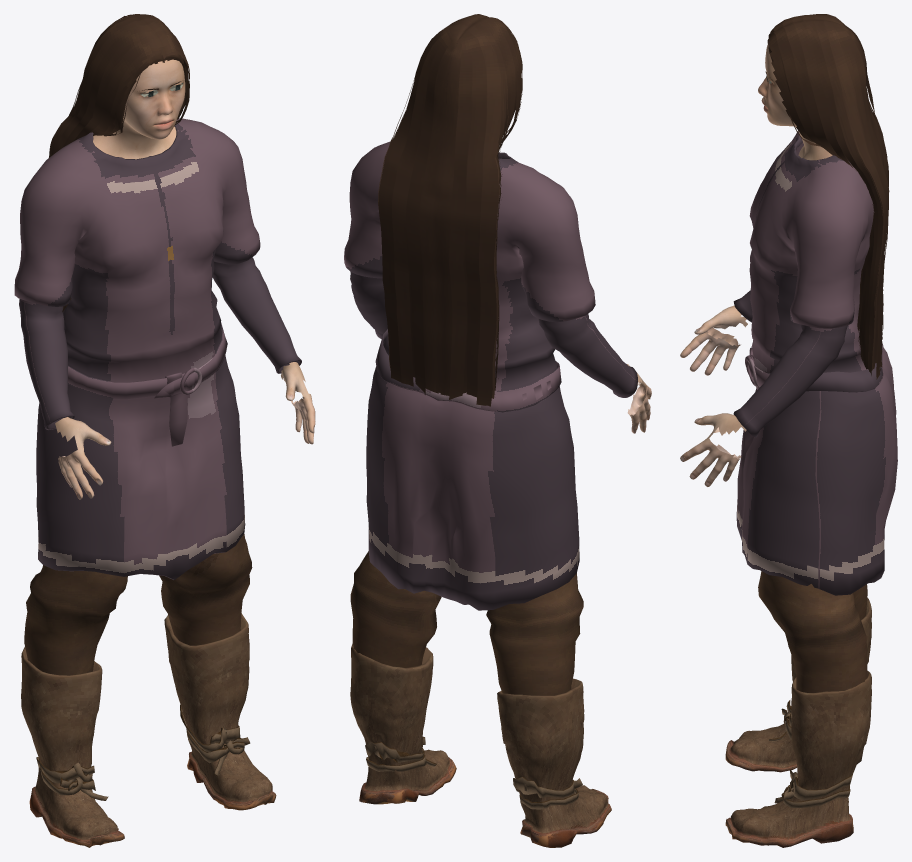
File: mara-travel-coat.glb
3 renders of one model, left to right at view 1: azimuth 30°, elevation 25°; view 2: azimuth 150°, elevation 25°; view 3: azimuth 270°, elevation 25°, orthographic. The views are drawn at different scales.
Parts seen in each view (by area): view 1: mara-travel-coat runtime mesh; view 2: mara-travel-coat runtime mesh; view 3: mara-travel-coat runtime mesh.
Part boxes in pixels (x1=…): mara-travel-coat runtime mesh: x1=14, y1=14, x2=315, y2=847; mara-travel-coat runtime mesh: x1=344, y1=14, x2=651, y2=847; mara-travel-coat runtime mesh: x1=680, y1=14, x2=897, y2=847.
Bounding box in the file's own units: 0.6321 × 1.85 × 0.4664.
8 materials, 7 textured.
